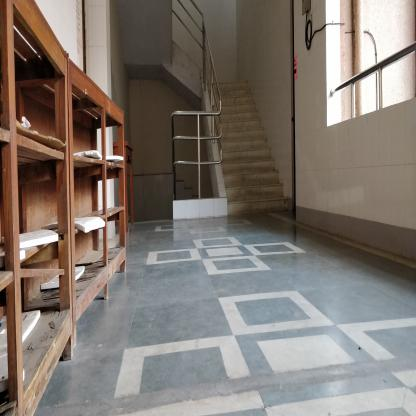stairs: (230, 125, 260, 218)
